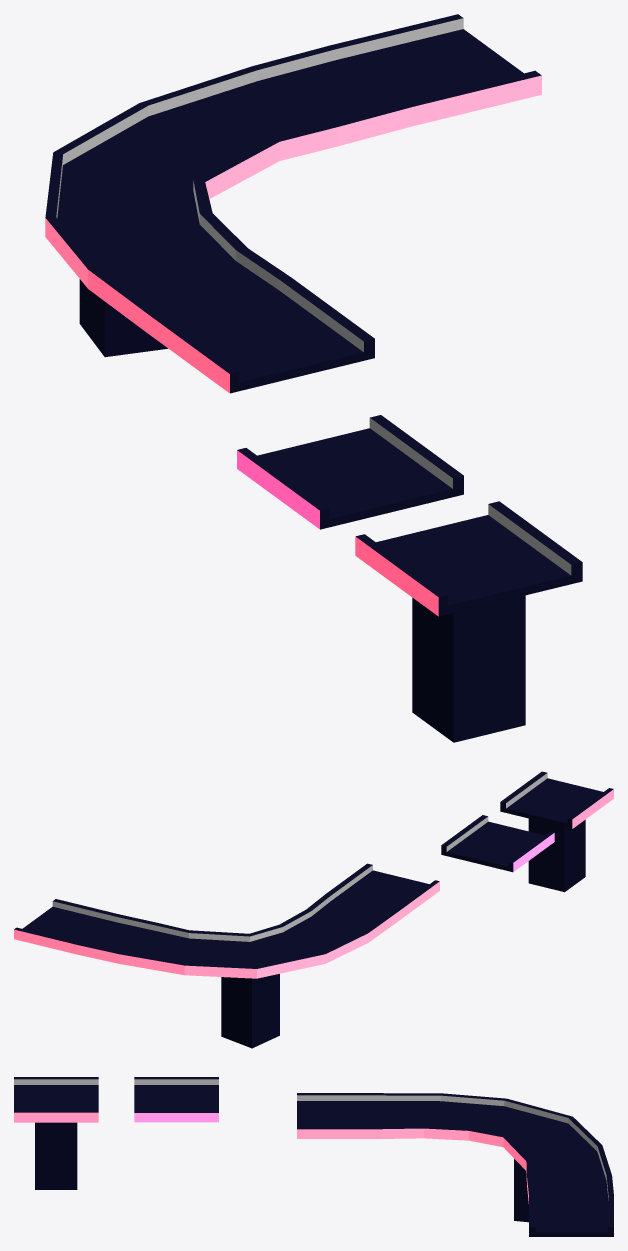
The model's file is highrailtroad.glb.
3 views of the same model, one above another, from view 1: azimuth 30°, elevation 25°; view 2: azimuth 150°, elevation 25°; view 3: azimuth 270°, elevation 25° (orthographic). The views are drawn at different scales.
Visible parts, largest first — view 1: 立方体, 立方体.001, 立方体.002; view 2: 立方体, 立方体.001, 立方体.002; view 3: 立方体, 立方体.001, 立方体.002.
Boxes of the visible parts, <box> form: 立方体: <box>45,14,541,393</box>; 立方体.001: <box>355,501,582,742</box>; 立方体.002: <box>237,415,463,529</box>; 立方体: <box>14,863,439,1048</box>; 立方体.001: <box>500,771,613,892</box>; 立方体.002: <box>441,815,554,872</box>; 立方体: <box>297,1093,613,1236</box>; 立方体.001: <box>14,1077,98,1189</box>; 立方体.002: <box>134,1077,218,1122</box>.
Bounding box in the file's own units: 33.87 × 9.12 × 56.79.
